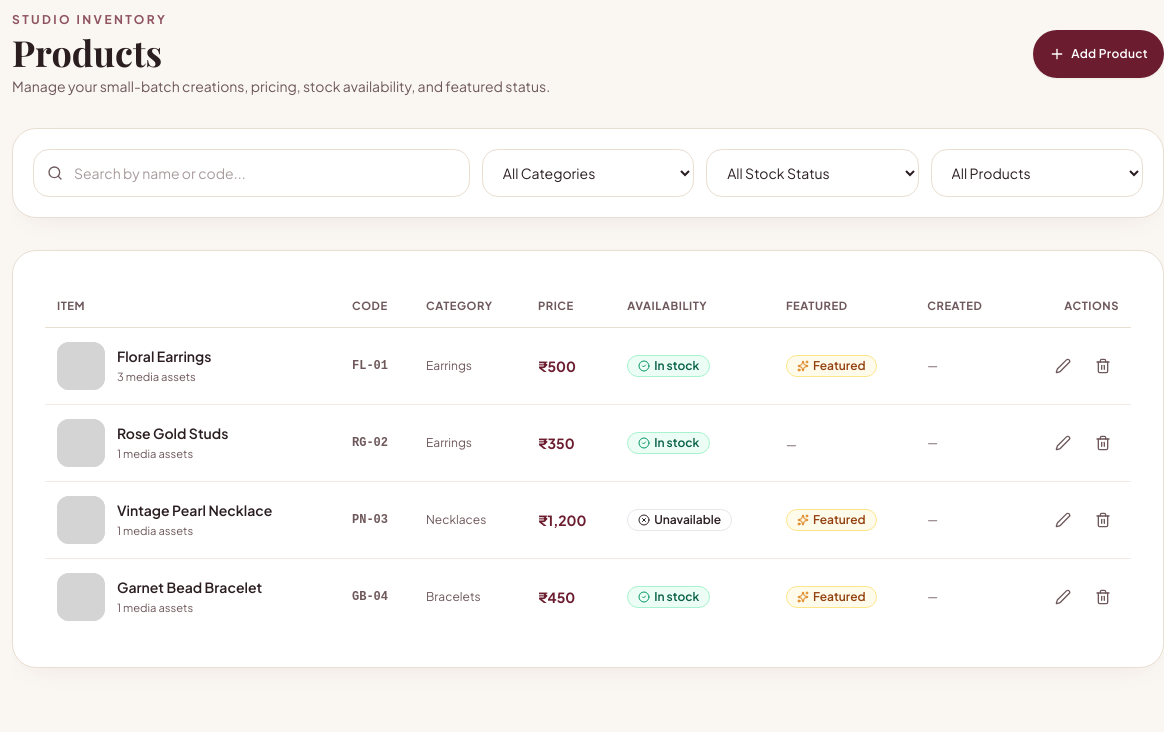
AdminProductsPage › searches products with input debouncing
This screenshot has width=1164, height=732.
Expected: the link "Floral Earrings" is shown, [117,346,211,366]
Step 1. Type "garnet" into the field named "Search products by name or code" → [251, 173], box [33,149,470,197]
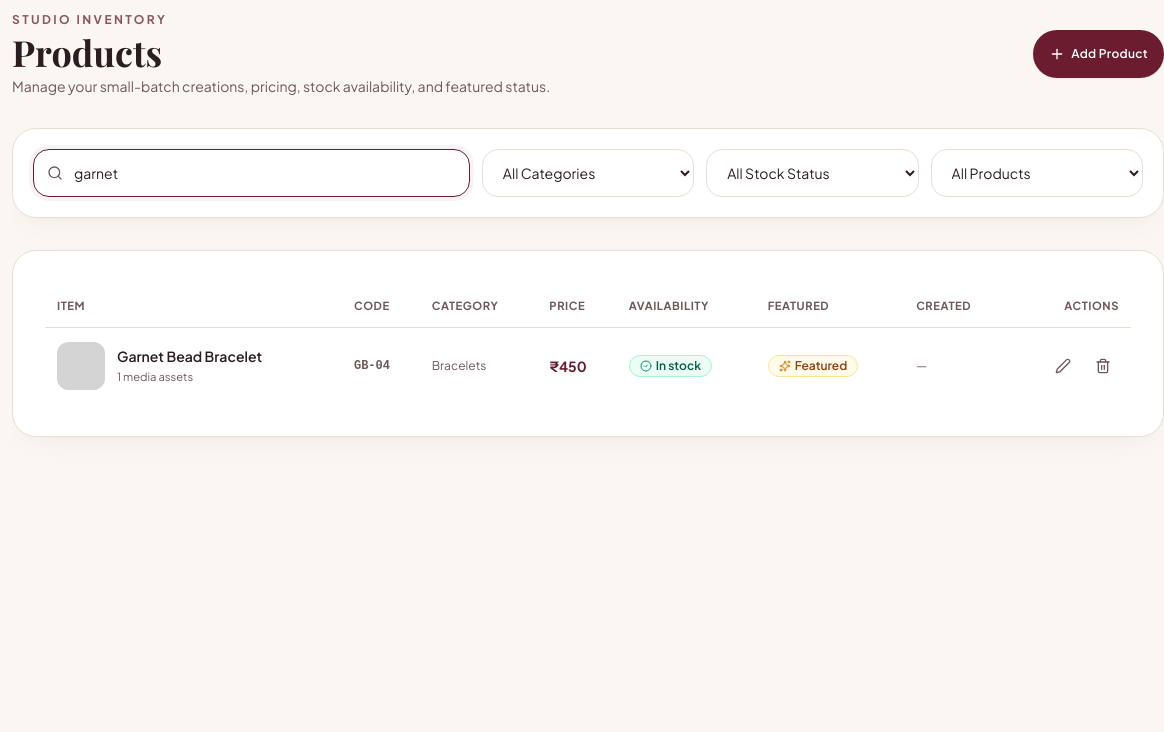
Expected: the link "Garnet Bead Bracelet" is shown, [117,346,262,366]
Now the link "Floral Earrings" is gone
